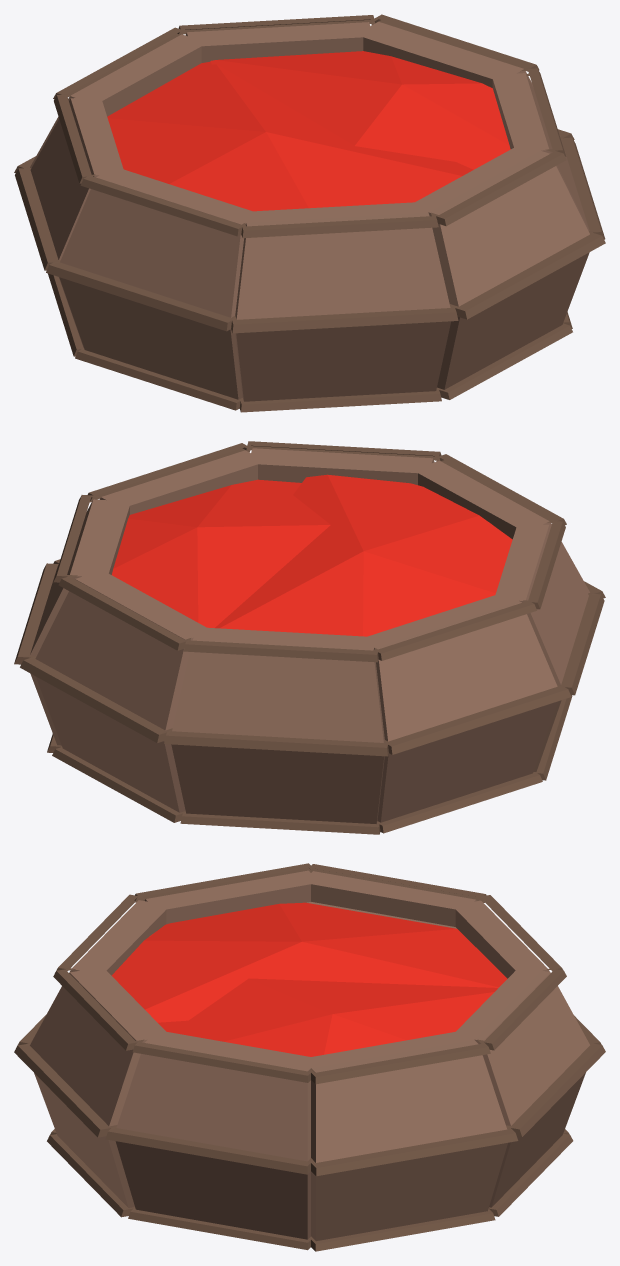
File: barrel-spice-01.obj
3 views of the same model, one above another, from view 1: azimuth 30°, elevation 25°; view 2: azimuth 150°, elevation 25°; view 3: azimuth 270°, elevation 25° (orthographic). The views are drawn at different scales.
Parts seen in each view (by area): view 1: barrel-spice-01; view 2: barrel-spice-01; view 3: barrel-spice-01.
Part boxes in pixels (x1=…): barrel-spice-01: x1=14, y1=14, x2=605, y2=412; barrel-spice-01: x1=14, y1=441, x2=605, y2=834; barrel-spice-01: x1=14, y1=863, x2=605, y2=1251.
Size of the model in its own units: 0.4357 by 0.1431 by 0.4368.
